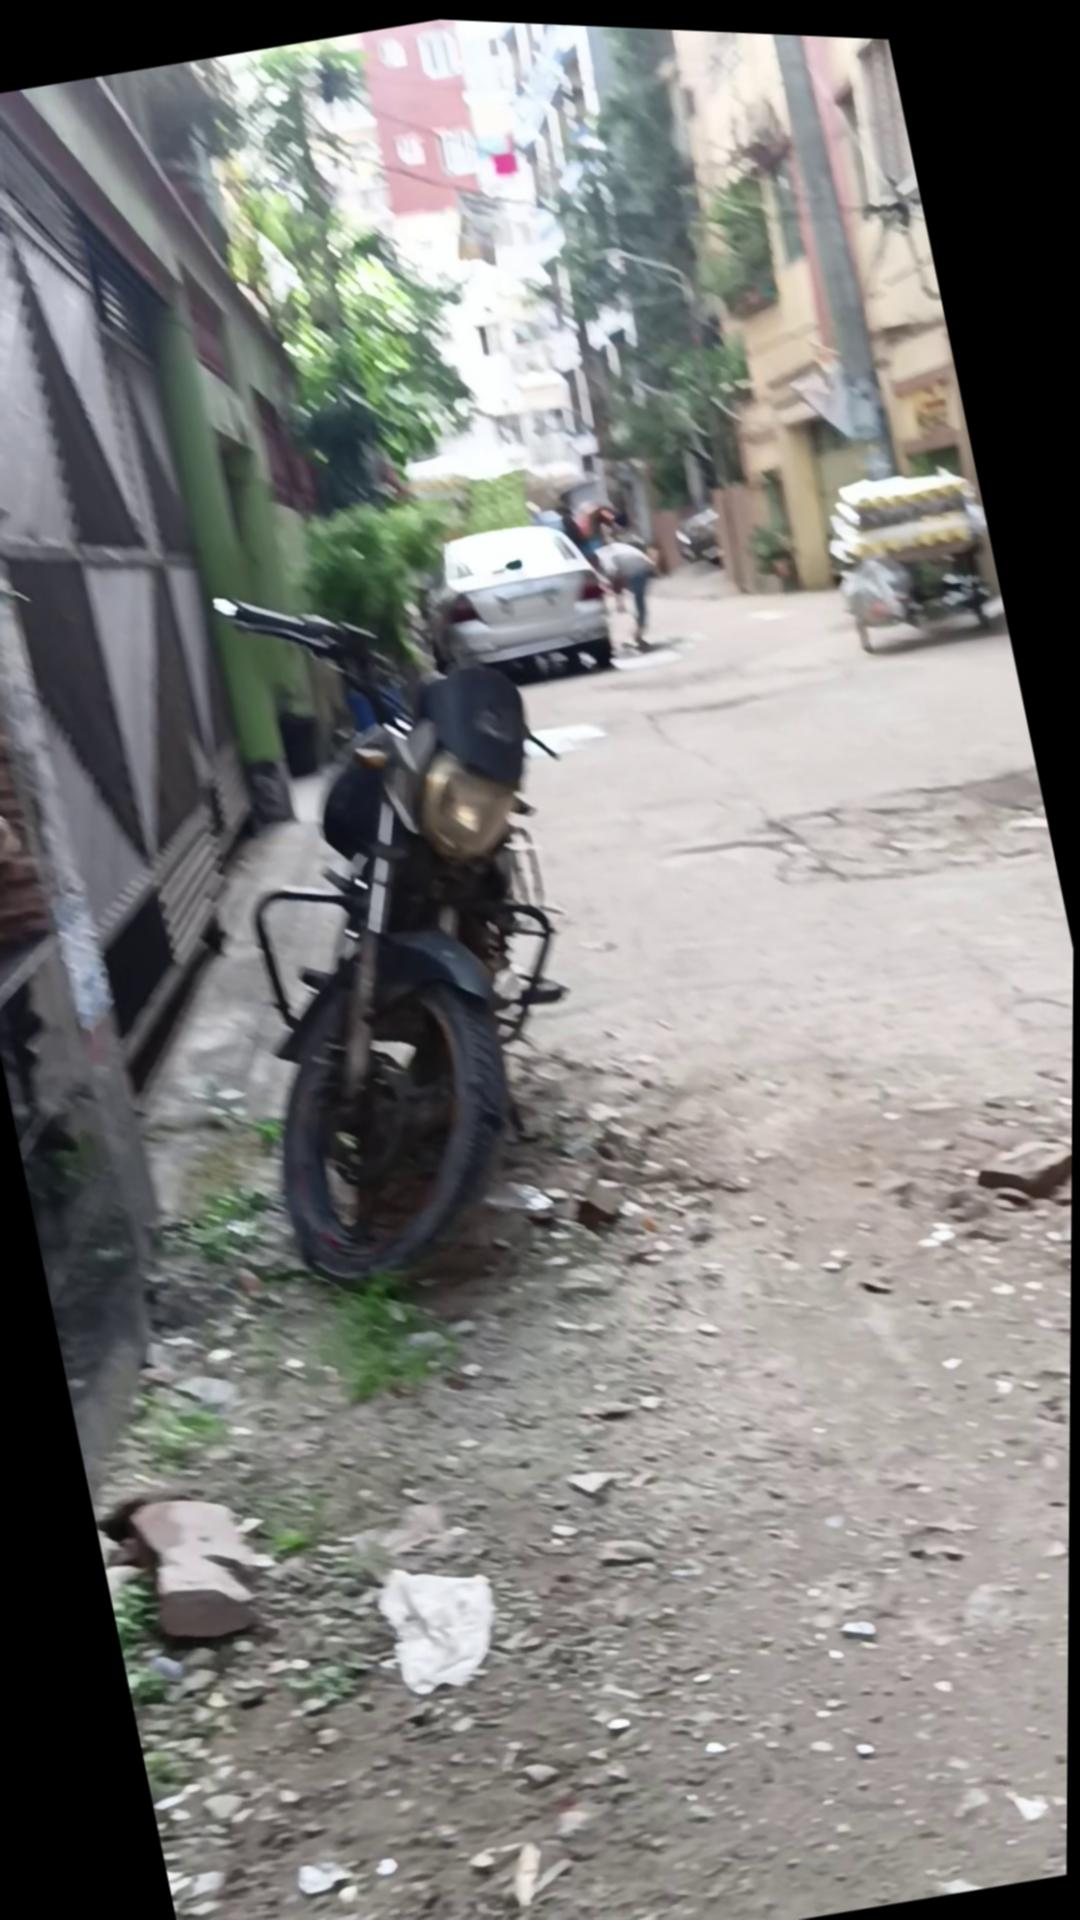Broken-road: (0, 541, 1077, 1920)
Car: (407, 497, 634, 700), (669, 497, 728, 567)
Crosswalk: (70, 786, 311, 1108)
Light-pole: (157, 526, 663, 1309)
Muddy road: (588, 508, 675, 653)
Obstacle: (745, 26, 905, 477)
Pole: (742, 508, 800, 582)
Pothole: (812, 444, 1006, 655)
